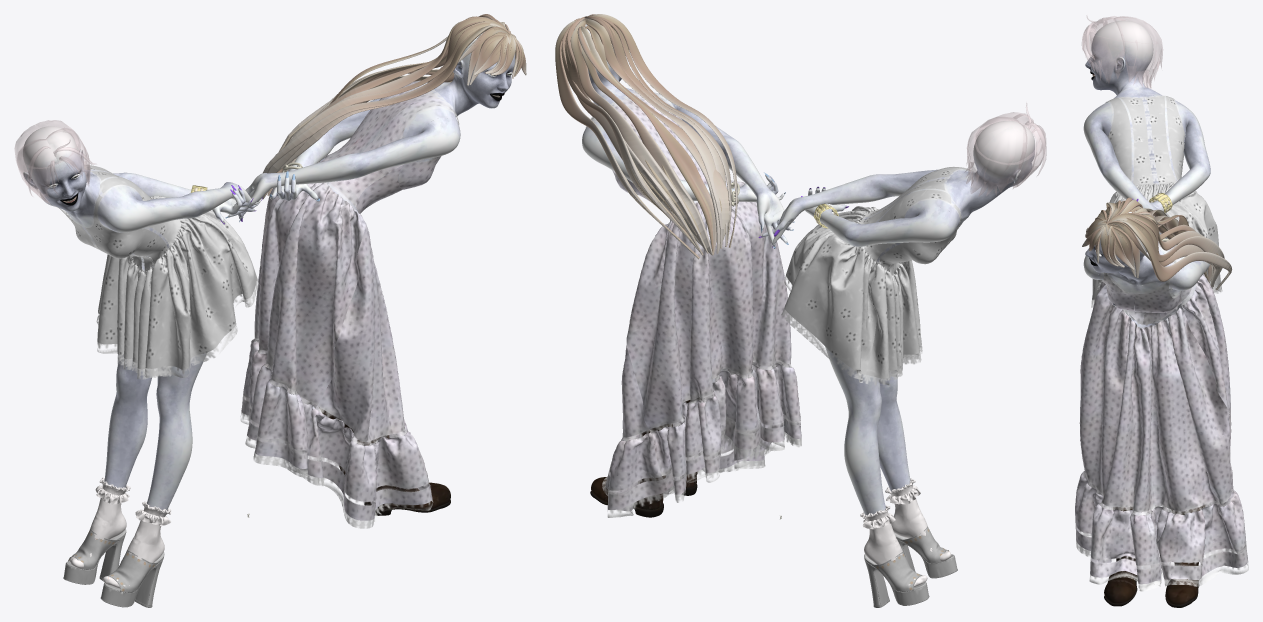
Rendered from Avatar_CB.glb.
The picture shows the model from 3 angles, left to right: view 1: azimuth 30°, elevation 25°; view 2: azimuth 150°, elevation 25°; view 3: azimuth 270°, elevation 25°; orthographic projection. The views are drawn at different scales.
Visible parts, largest first — view 1: Cloth.003, Genesis9.003, Cloth, hair1, TSSandalL_13210, Adele_Bracelet_Right_3712, hair, V1_Boots_6420; view 2: Cloth.003, Genesis9.003, hair1, Cloth, hair, Adele_Bracelet_Right_3712, TSSandalL_13210, V1_Boots_6420; view 3: Cloth.003, Genesis9.003, Cloth, hair1, hair, V1_Boots_6420, Adele_Bracelet_Right_3712.
Part boxes in pixels (x1,y1,x2,y2): Cloth.003: [240, 80, 459, 528]; Genesis9.003: [23, 32, 515, 578]; Cloth: [53, 165, 259, 379]; hair1: [262, 14, 526, 199]; TSSandalL_13210: [63, 529, 164, 607]; Adele_Bracelet_Right_3712: [70, 162, 319, 588]; hair: [14, 120, 95, 204]; V1_Boots_6420: [319, 407, 450, 515]; Cloth.003: [585, 90, 801, 517]; Genesis9.003: [582, 24, 1034, 515]; hair1: [555, 14, 737, 259]; Cloth: [781, 166, 974, 387]; hair: [965, 103, 1046, 196]; Adele_Bracelet_Right_3712: [731, 172, 951, 586]; TSSandalL_13210: [864, 526, 957, 607]; V1_Boots_6420: [590, 397, 701, 517]; Cloth.003: [1075, 241, 1248, 591]; Genesis9.003: [1083, 20, 1210, 328]; Cloth: [1091, 95, 1222, 307]; hair1: [1082, 197, 1232, 290]; hair: [1082, 16, 1162, 88]; V1_Boots_6420: [1104, 505, 1205, 607]; Adele_Bracelet_Right_3712: [1132, 193, 1172, 241].
Size of the model in its own units: 162 by 159 by 55.01.
25 materials, 25 textured.
